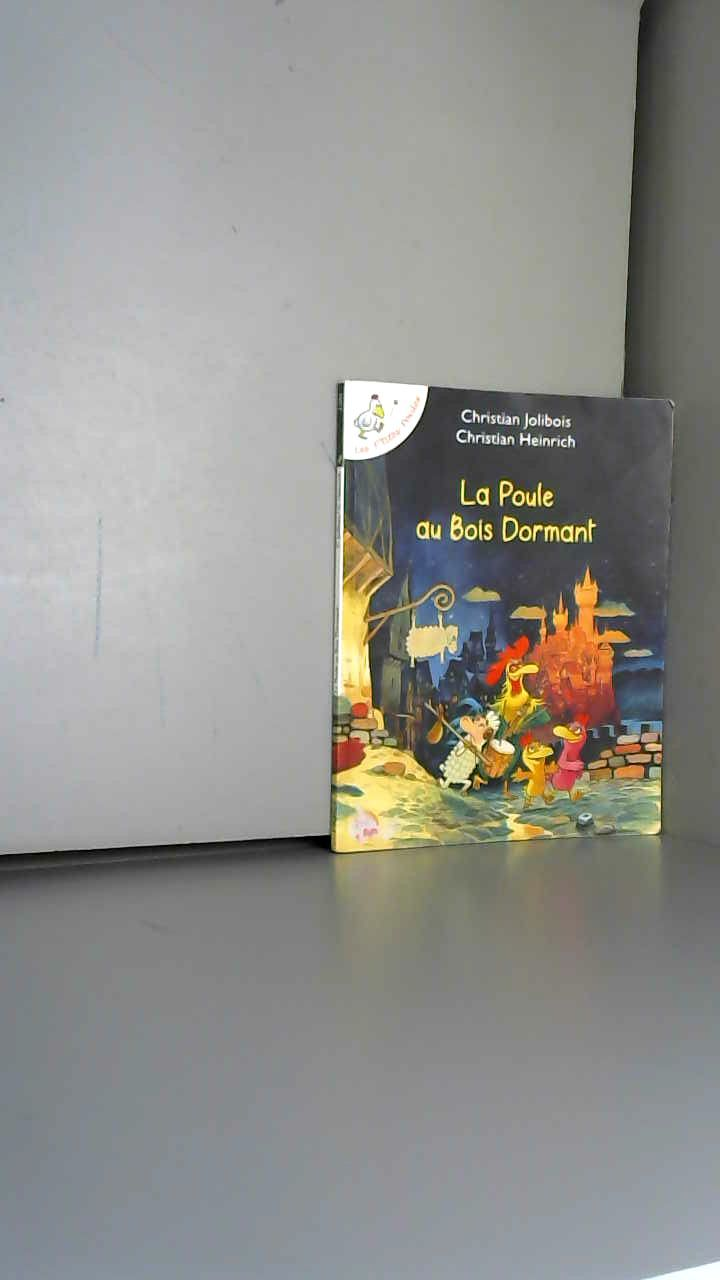book: (300, 360, 720, 883)
